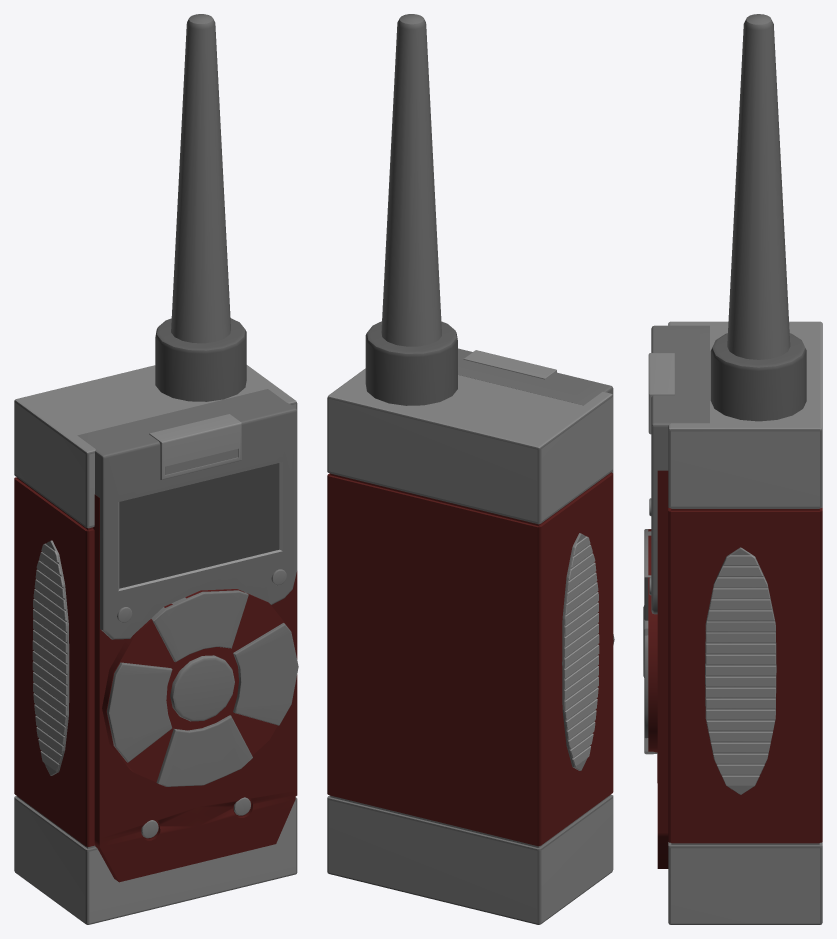
File: GazAnalyzer.fbx
3 renders of one model, left to right at view 1: azimuth 30°, elevation 25°; view 2: azimuth 150°, elevation 25°; view 3: azimuth 270°, elevation 25°, orthographic. The views are drawn at different scales.
Parts seen in each view (by area): view 1: polySurface8, polySurface4, polySurface9, polySurface10, pCube31, polySurface6, polySurface7, pCube30, pCube32, polySurface3, polySurface13, polySurface44; view 2: polySurface8, polySurface10, polySurface7, polySurface4, polySurface44, polySurface3; view 3: polySurface8, polySurface10, polySurface4, polySurface7, polySurface9, polySurface22, polySurface6, polySurface3, polySurface30, polySurface29, polySurface27, polySurface28 (+17 smaller).
Boxes of the visible parts, x1,y1,x2,y2 form: polySurface8: (14, 365, 297, 924); polySurface4: (77, 389, 297, 639); polySurface9: (93, 494, 295, 882); polySurface10: (171, 14, 230, 343); pCube31: (107, 623, 298, 762); polySurface6: (102, 589, 290, 782); polySurface7: (155, 318, 246, 401); pCube30: (151, 590, 248, 662); pCube32: (156, 715, 252, 786); polySurface3: (149, 414, 241, 479); polySurface13: (170, 655, 234, 721); polySurface44: (33, 540, 69, 775); polySurface8: (327, 368, 613, 924); polySurface10: (381, 14, 441, 346); polySurface7: (365, 321, 457, 405); polySurface4: (458, 348, 613, 472); polySurface44: (562, 533, 598, 770); polySurface3: (463, 350, 556, 379); polySurface8: (668, 321, 822, 924); polySurface10: (727, 14, 790, 359); polySurface4: (651, 325, 709, 614); polySurface7: (710, 333, 806, 421); polySurface9: (657, 470, 668, 868); polySurface22: (705, 547, 776, 794); polySurface6: (648, 529, 657, 752); polySurface3: (648, 353, 674, 434); polySurface30: (705, 665, 776, 675); polySurface29: (705, 676, 775, 686); polySurface27: (705, 698, 775, 708); polySurface28: (705, 687, 775, 697).
Bounding box in the file's own units: 2.58 × 9.51 × 1.76.
